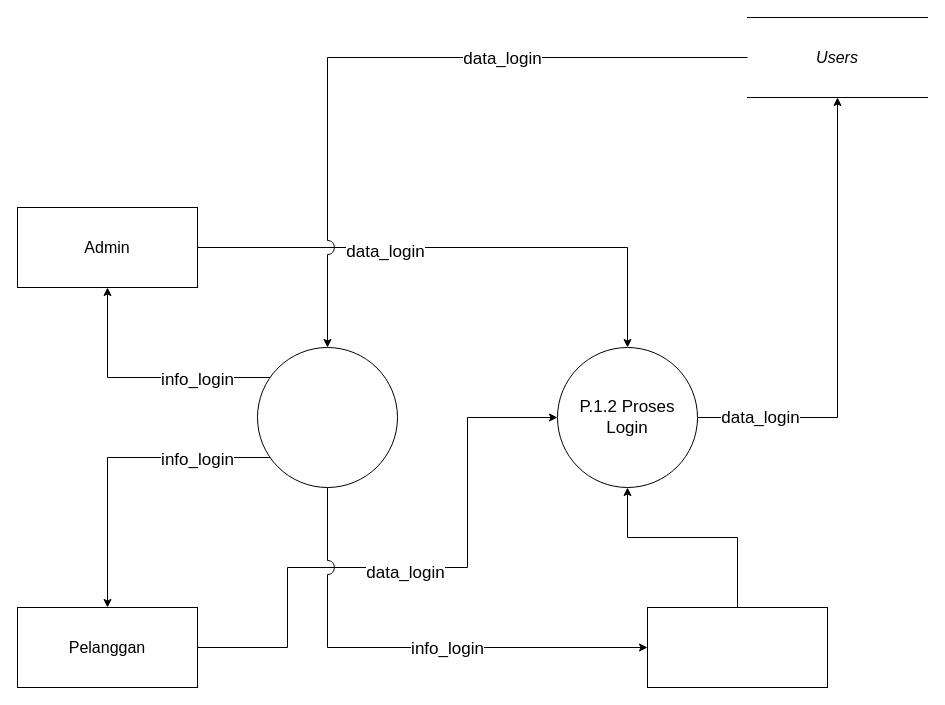
Image size: 945x705. Some labels were removed from this diagram. Here are the shapes that lost their labels. From the top down, the centre of each, then its label:
At (327,417): "P.1.1 Tampil Info Login".
At (737,647): "Teknisi".
